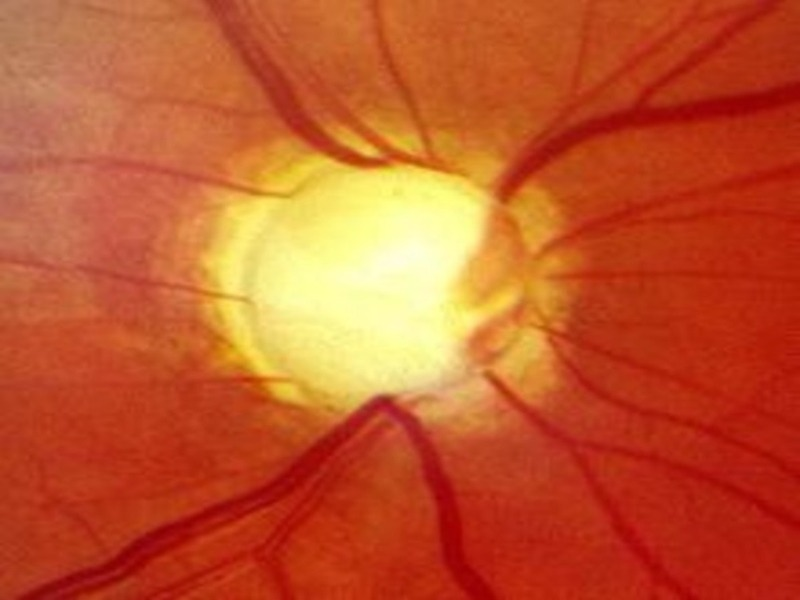Optic Cup: (249, 174, 478, 382)
Optic Disc: (205, 132, 569, 416)
